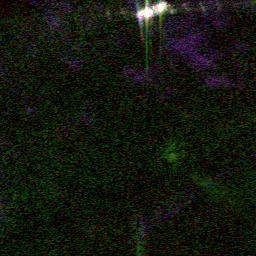Ship: (133, 2, 171, 17)
